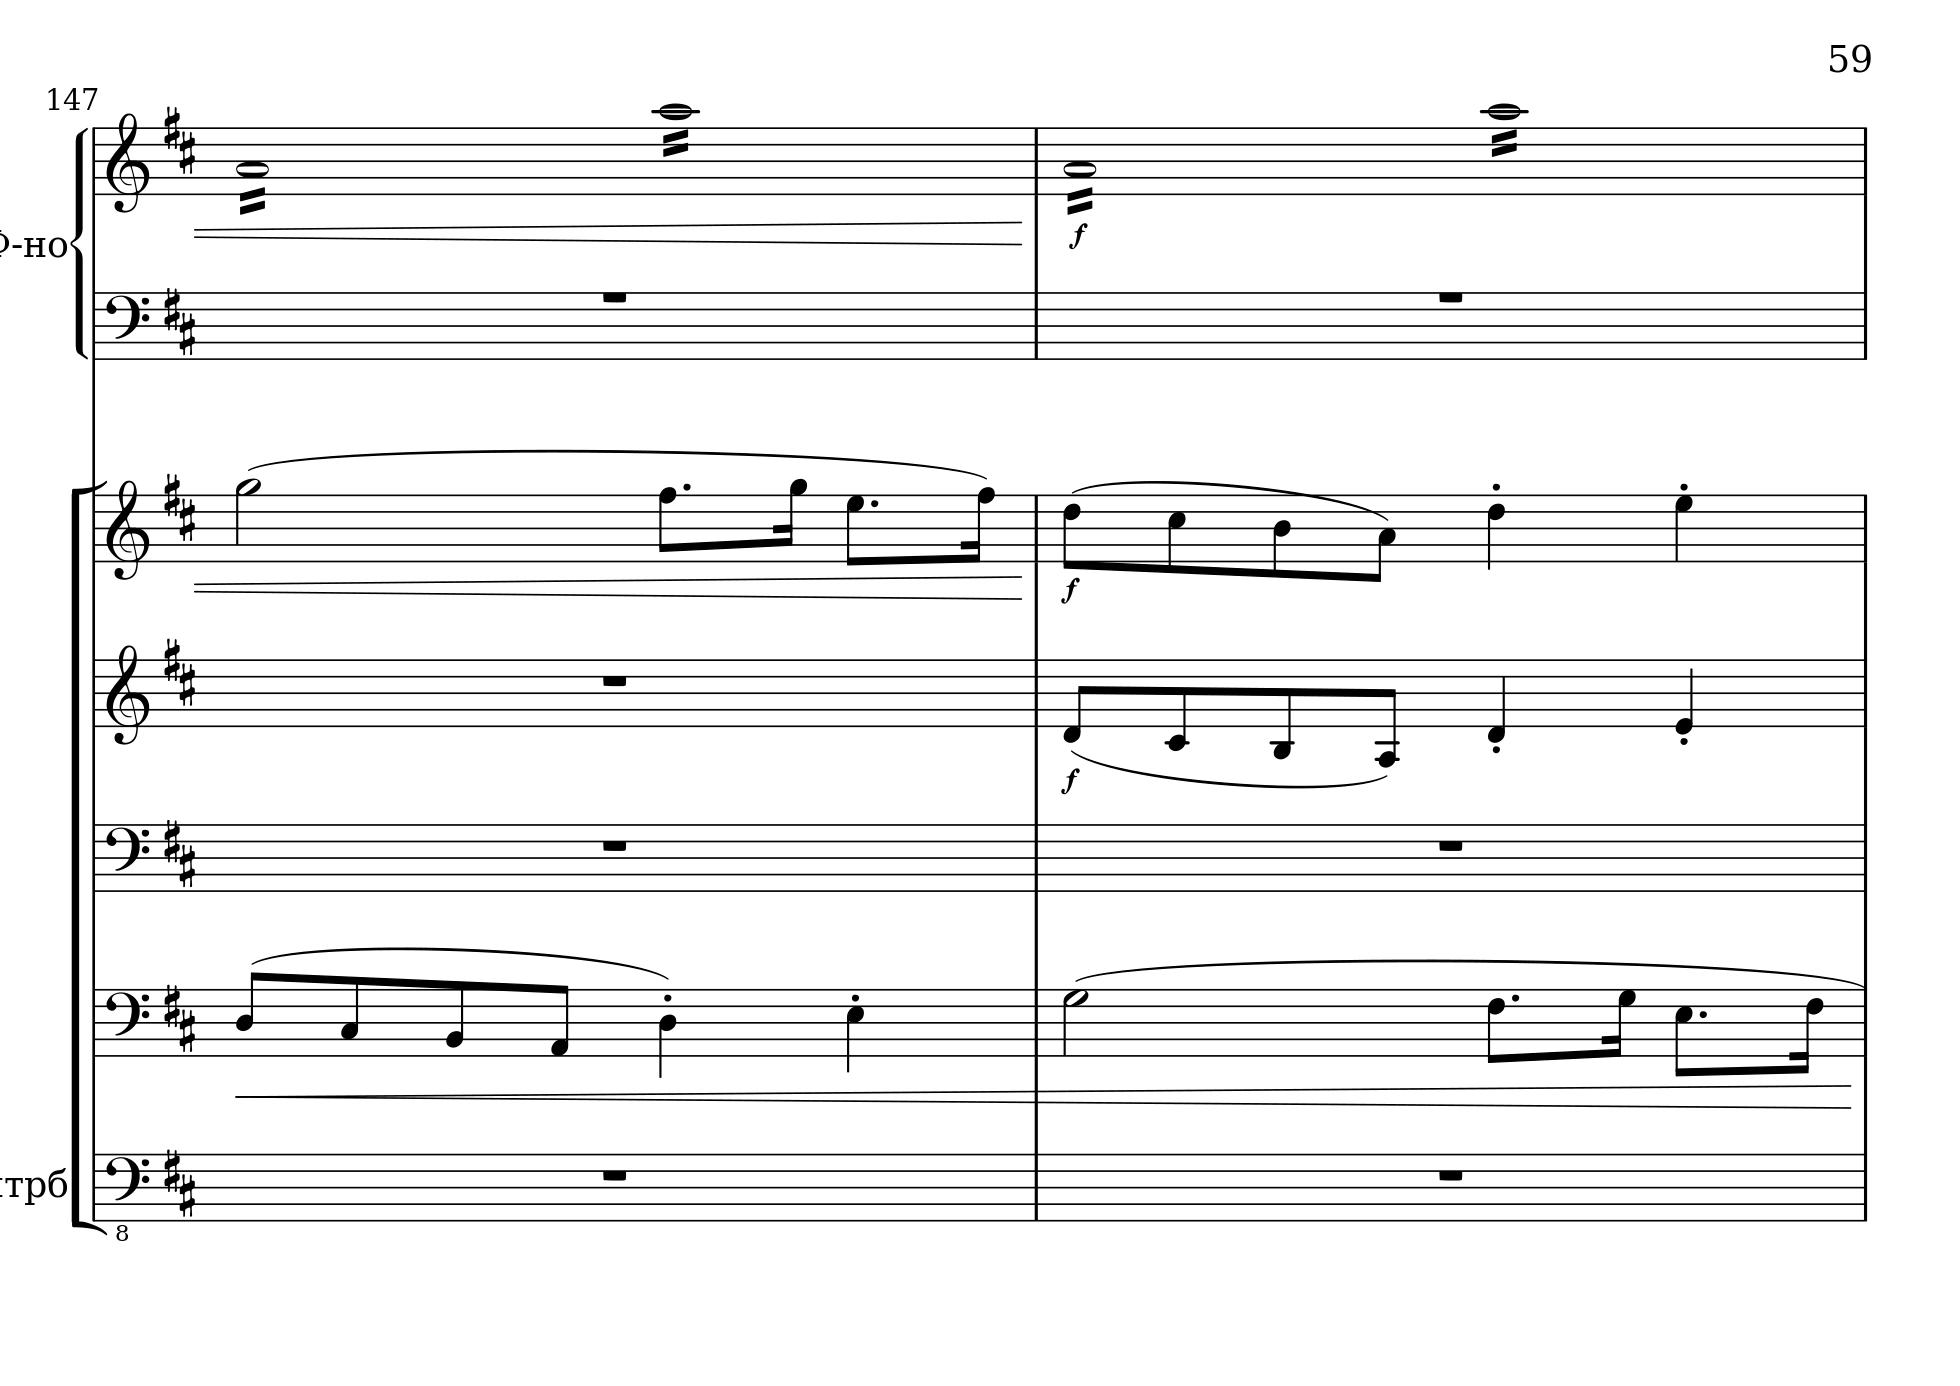1: (46, 85, 61, 114)
16_6: (1791, 985, 1825, 1075)
16_7: (1602, 985, 1638, 1057)
16_8: (961, 486, 997, 565)
16_9: (775, 477, 807, 562)
2_7: (1062, 987, 1090, 1057)
2_9: (232, 475, 259, 564)
4: (63, 84, 79, 112)
4_-1: (1485, 655, 1509, 744)
4_0: (1674, 657, 1696, 735)
4_4: (657, 985, 678, 1078)
4_5: (844, 987, 865, 1075)
4_6: (1485, 492, 1509, 571)
4_7: (1672, 492, 1695, 562)
5: (1827, 40, 1849, 75)
7: (81, 84, 99, 112)
8_-1: (1062, 657, 1092, 744)
8_-2: (1164, 657, 1191, 753)
8_-3: (1269, 657, 1296, 760)
8_-4: (1375, 655, 1401, 769)
8_1: (547, 982, 571, 1059)
8_2: (444, 979, 466, 1059)
8_3: (1368, 490, 1398, 583), (337, 975, 361, 1057)
8_4: (234, 970, 264, 1057), (1270, 490, 1293, 580)
8_5: (1165, 490, 1189, 576), (1674, 985, 1695, 1077)
8_6: (1485, 985, 1506, 1066), (1062, 492, 1083, 571)
8_7: (844, 492, 867, 565)
8_8: (657, 484, 678, 562)
9: (1849, 40, 1873, 75)
Brace: (70, 124, 88, 358)
Crescendo_hairpin: (235, 1083, 1855, 1111)
D_S: (162, 814, 198, 886), (160, 471, 196, 541), (162, 981, 198, 1051), (162, 1144, 198, 1215), (162, 103, 196, 175), (162, 283, 196, 355), (162, 634, 196, 703)
Fclef: (103, 289, 151, 361), (103, 822, 150, 892), (103, 987, 150, 1057)
Gclef: (103, 109, 148, 214), (105, 642, 150, 745), (105, 478, 148, 580)
Lower_Fclef: (105, 1152, 150, 1243)
Pno: (18, 229, 67, 258)
Rests1: (1434, 286, 1468, 307), (1434, 835, 1468, 856), (598, 286, 631, 307), (598, 670, 631, 691), (598, 835, 631, 856), (1434, 1165, 1468, 1185), (598, 1165, 631, 1185)
Single_barline: (1026, 988, 1047, 1054), (1855, 658, 1875, 726), (1026, 823, 1045, 891), (1854, 1153, 1873, 1219), (1857, 493, 1875, 561), (1027, 658, 1045, 726), (1855, 823, 1873, 889), (1027, 1153, 1045, 1219), (1029, 493, 1045, 562), (87, 127, 103, 193), (1857, 127, 1873, 193), (1857, 292, 1873, 358), (87, 1153, 103, 1219), (87, 990, 103, 1054), (1855, 994, 1872, 1057), (1029, 127, 1044, 193), (1029, 292, 1044, 358), (88, 495, 103, 561), (88, 292, 103, 357), (87, 825, 102, 889), (87, 660, 100, 726)
Slur: (247, 448, 990, 486), (1072, 958, 1860, 988), (247, 943, 672, 982), (1071, 480, 1393, 526), (1071, 754, 1386, 787)
dot: (1509, 990, 1524, 1005), (867, 495, 880, 510), (1696, 1006, 1710, 1021), (679, 480, 693, 493)
f: (1059, 574, 1089, 604), (1068, 220, 1092, 250), (1060, 766, 1083, 795)
